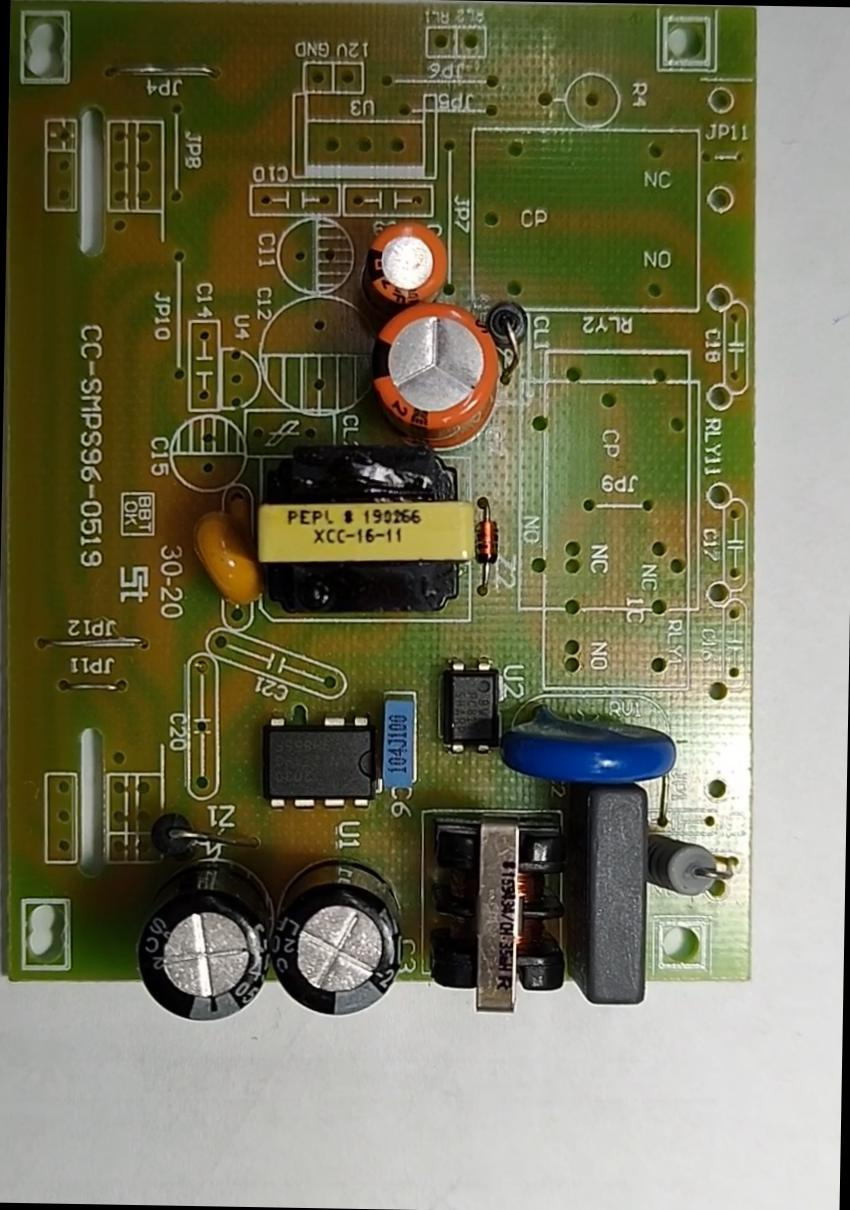Cap1: (362, 292, 510, 452)
Cap2: (359, 214, 454, 320)
Cap3: (264, 862, 406, 1022)
Cap4: (120, 857, 276, 1032)
MOSFET: (254, 707, 388, 815)
Mov: (502, 697, 684, 794)
Resistor: (645, 820, 738, 906)
Transformer: (247, 441, 479, 620), (414, 806, 576, 1020)
